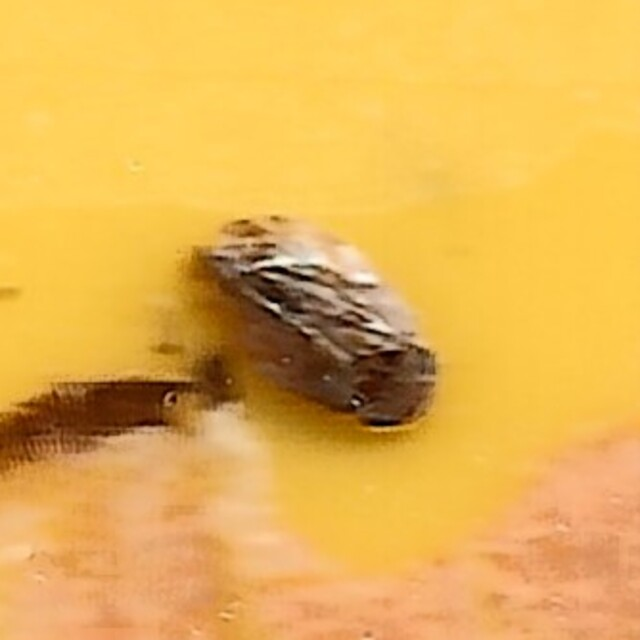Hemiptera: (192, 198, 448, 442)
